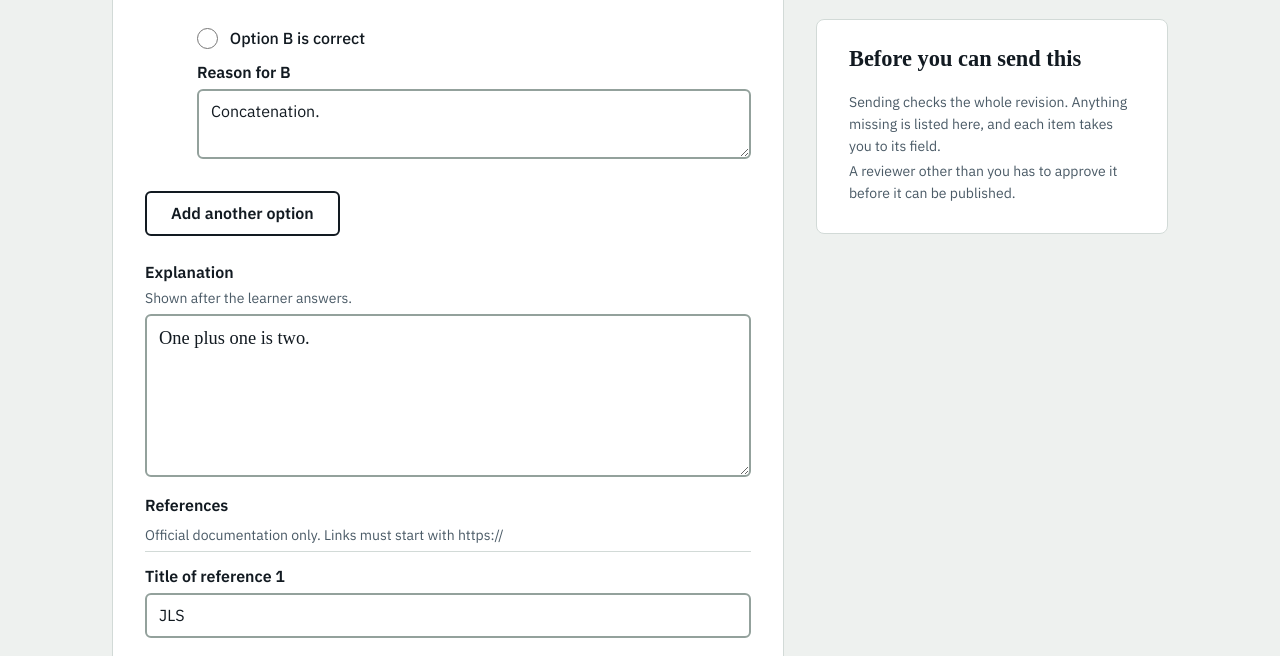
unsaved changes › leaves without saving when the person says so
(page scrolled)
Type " More." into the text box labelled "Explanation".
click(448, 395); type(" More.")  # box [145, 314, 751, 477]
(page scrolled)
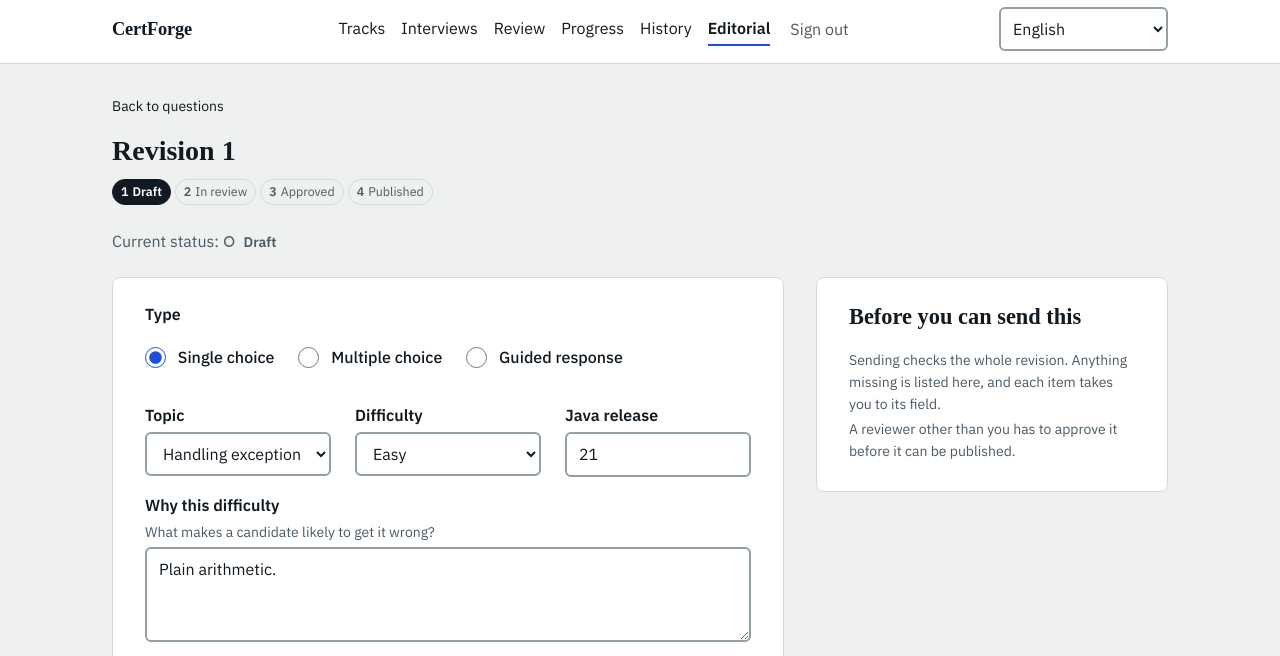
Click the link "Back to questions".
click(168, 106)  # box [112, 97, 224, 115]
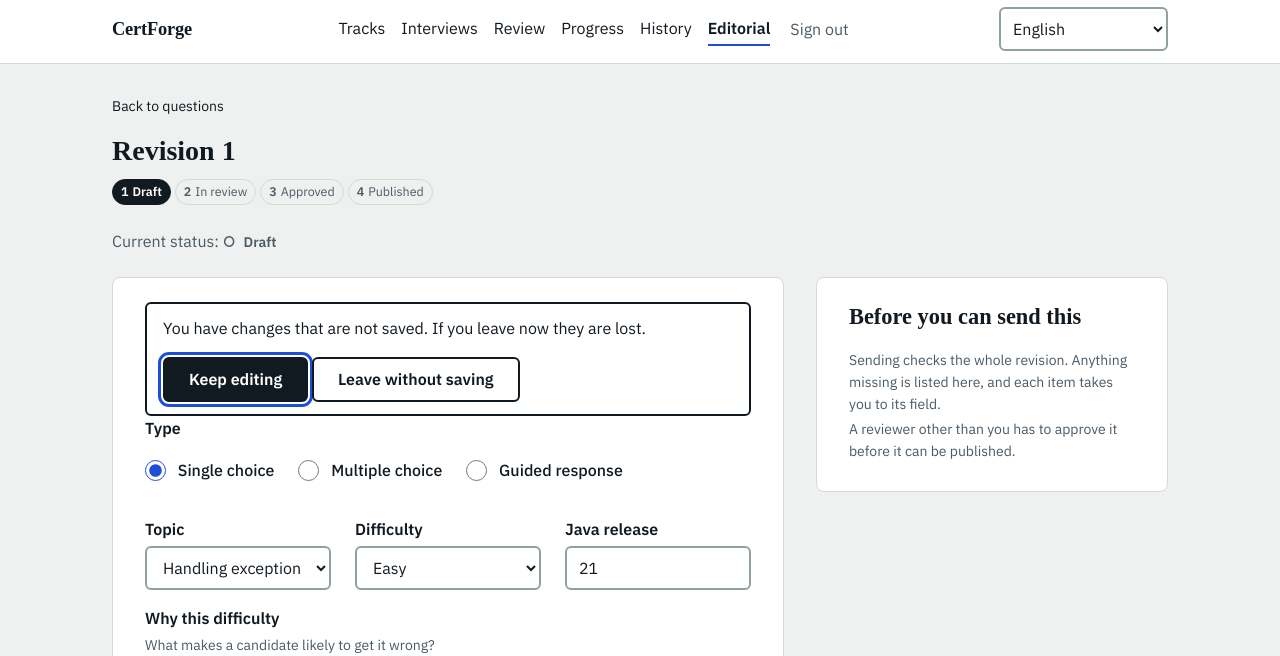
Click the button "Leave without saving".
click(416, 380)  # box [312, 357, 520, 402]
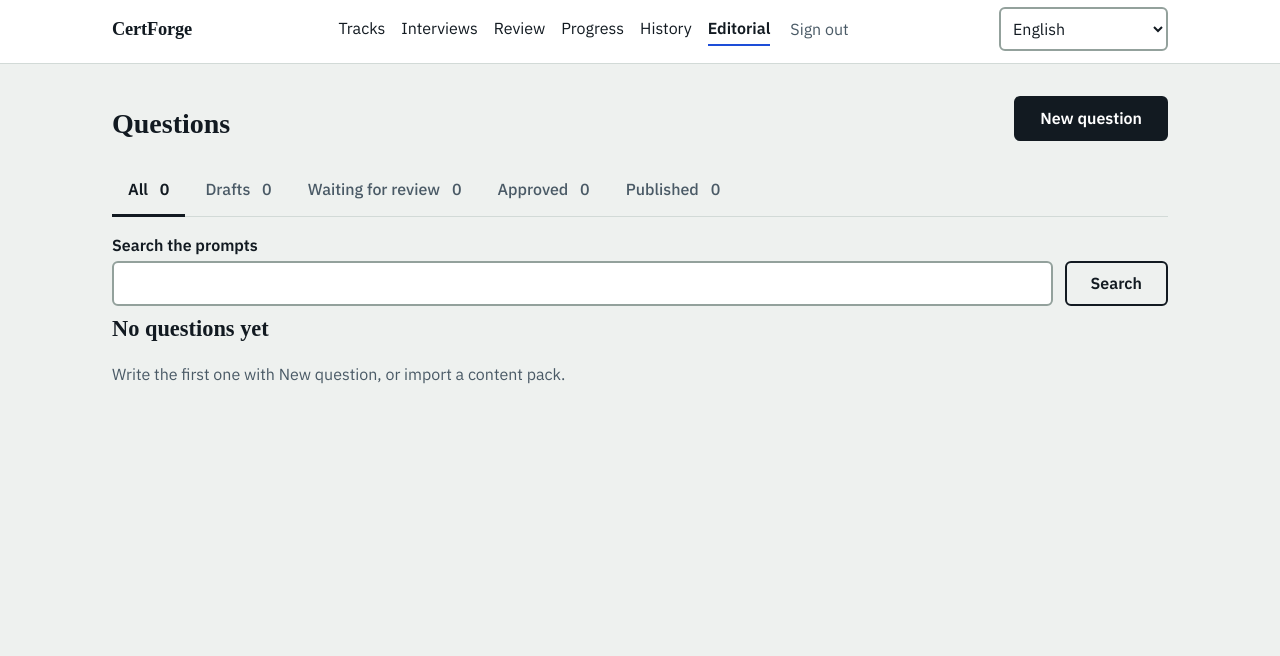
Now the heading "Questions" is shown, box [112, 107, 230, 141]
